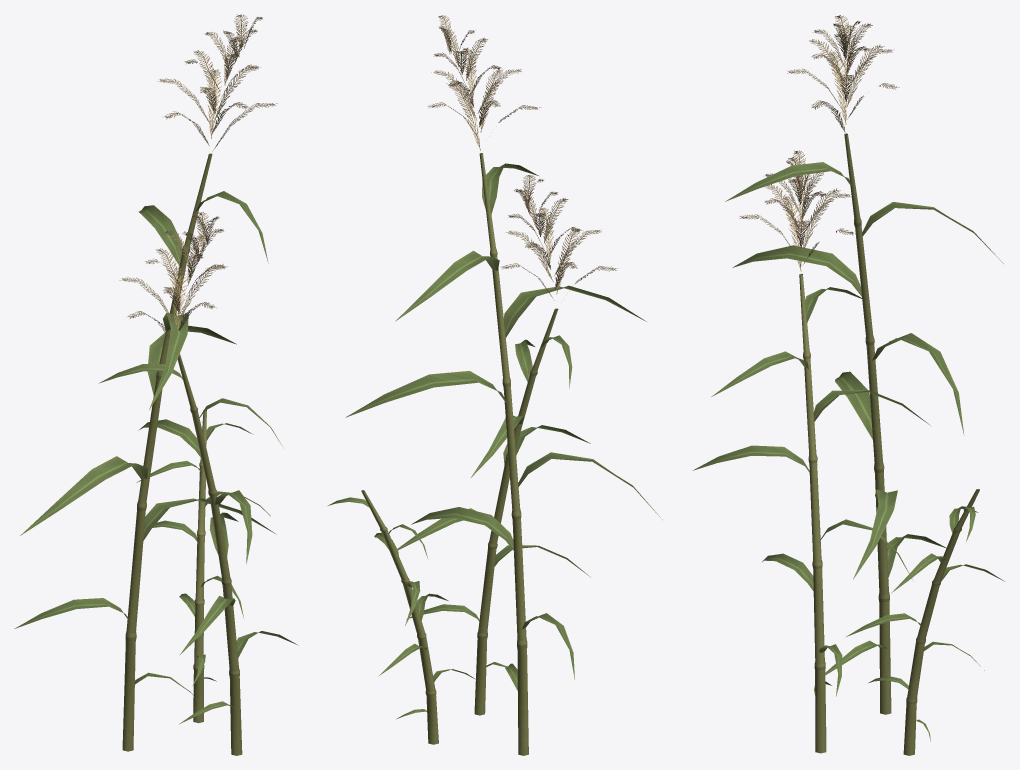
File: marsh-plumed-cane.glb
3 views of the same model, side by side, from view 1: azimuth 30°, elevation 25°; view 2: azimuth 150°, elevation 25°; view 3: azimuth 270°, elevation 25° (orthographic). The views are drawn at different scales.
Visible parts, largest first — view 1: Jointed cane with nodding panicles; view 2: Jointed cane with nodding panicles; view 3: Jointed cane with nodding panicles.
Part boxes in pixels (box(x1,y1,x2,y2)): Jointed cane with nodding panicles: box(14, 14, 298, 755); Jointed cane with nodding panicles: box(328, 15, 662, 755); Jointed cane with nodding panicles: box(692, 15, 1004, 755).
Bounding box in the file's own units: 1.17 × 2.77 × 1.06.
1 material, 1 textured.
